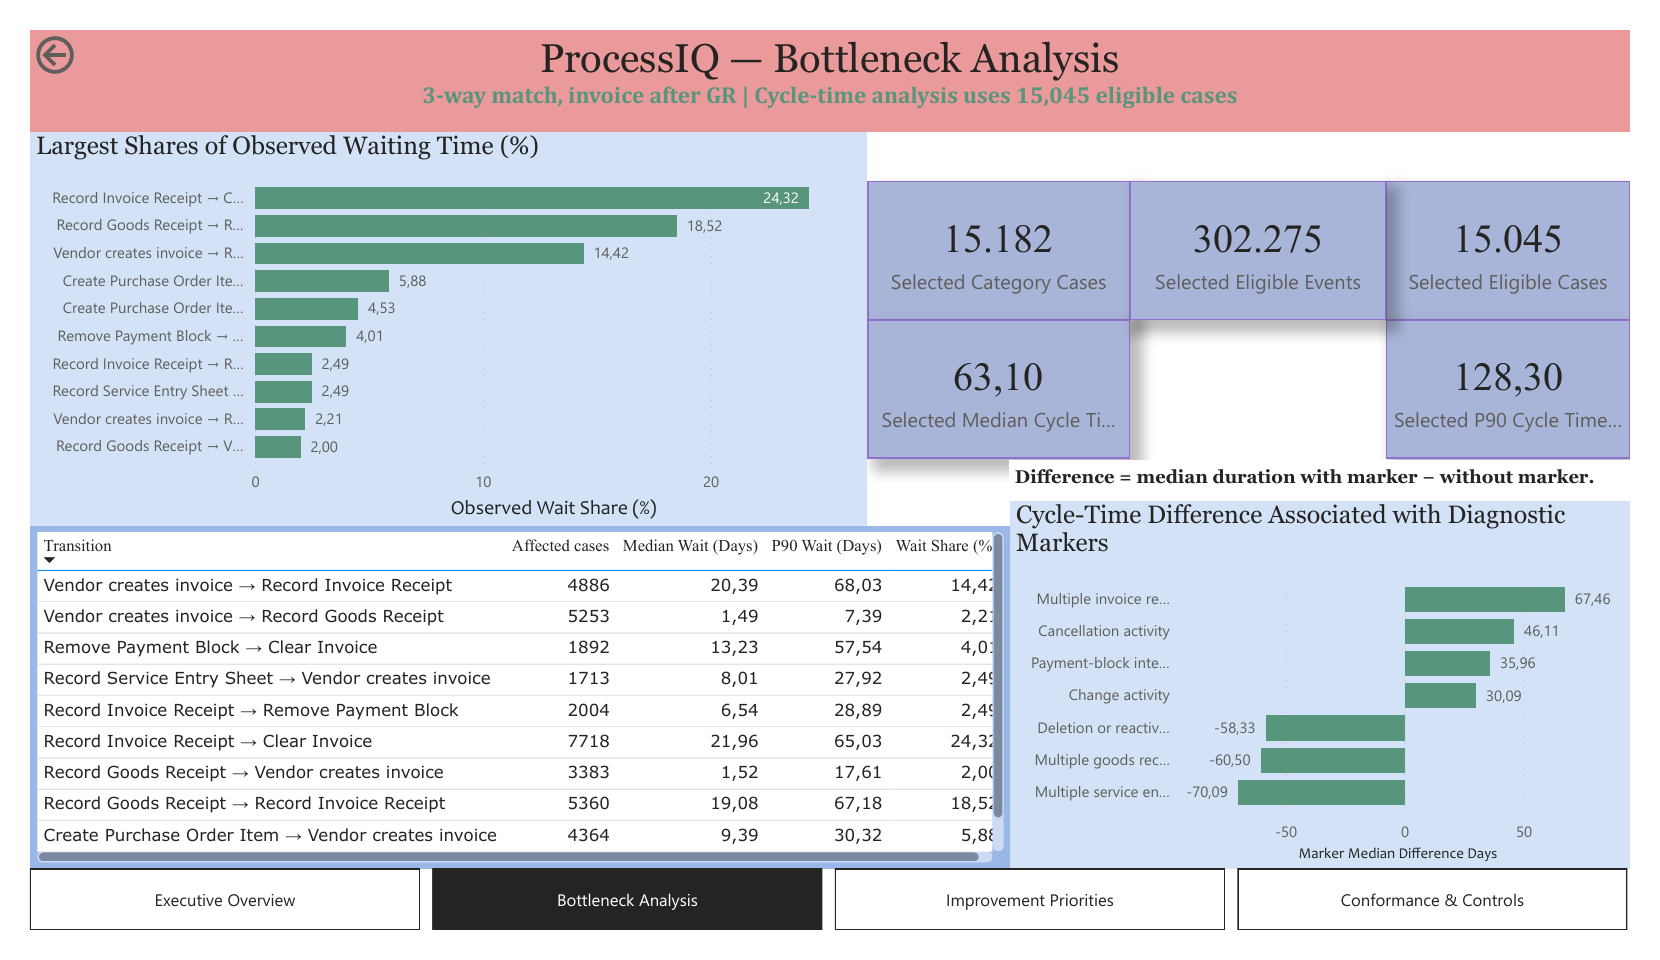

What the dashboard file says about the page in this screenshot:
{"tool":"powerbi","page":{"name":"Bottleneck Analysis","canvas":[1280,720],"ordinal":1},"visuals":[{"type":"textbox","box":[0,0,1280.3,82.3],"z":0},{"type":"card","fields":{"Values":["dashboard_cases.Selected Category Cases"]},"box":[669.6,120.8,209.9,111.1],"z":1000},{"type":"card","fields":{"Values":["dashboard_cases.Selected Eligible Cases"]},"box":[1085.4,120.8,194.9,111.1],"z":2000},{"type":"card","fields":{"Values":["dashboard_cases.Selected Median Cycle Time Days"]},"box":[669.6,231.9,209.9,111.1],"z":3000},{"type":"card","fields":{"Values":["dashboard_cases.Selected P90 Cycle Time Days"]},"box":[1085.4,231.9,194.9,111.1],"z":4000},{"type":"clusteredBarChart","title":"Largest Shares of Observed Waiting Time (%)","fields":{"Category":["transition_bottlenecks.Transition Label"],"Y":["Sum(transition_bottlenecks.share_of_observed_wait)"]},"box":[0,82.3,669.6,314.2],"z":5000},{"type":"clusteredBarChart","title":"Cycle-Time Difference Associated with Diagnostic Markers","fields":{"Category":["marker_duration_comparison.marker"],"Y":["marker_duration_comparison.Marker Median Difference Days"]},"box":[783.5,377.4,496.7,293.7],"z":6000},{"type":"tableEx","fields":{"Values":["transition_bottlenecks.Transition Label","Sum(transition_bottlenecks.affected_cases)","Sum(transition_bottlenecks.Median Wait Days)","Sum(transition_bottlenecks.P90 Wait Days)","Sum(transition_bottlenecks.share_of_observed_wait)"]},"box":[0,396.6,783.5,274.4],"z":7000},{"type":"actionButton","box":[0,0,100,40],"z":8000},{"type":"card","fields":{"Values":["dashboard_cases.Selected Eligible Events"]},"box":[879.6,120.8,205.8,111.1],"z":9000},{"type":"textbox","box":[782.9,344.3,497.1,32.9],"z":10000},{"type":"pageNavigator","box":[0,671,1280.3,49.4],"z":11000}]}

Visuals, with their boxes in screenshot pixels (x1, y1, x2, y2), scaled from the page's 1280x720 canvas onto the 1660x960 screenshot:
textbox: <box>0,0,1659,110</box>
card - dashboard_cases.Selected Category Cases: <box>868,161,1141,309</box>
card - dashboard_cases.Selected Eligible Cases: <box>1408,161,1659,309</box>
card - dashboard_cases.Selected Median Cycle Time Days: <box>868,309,1141,457</box>
card - dashboard_cases.Selected P90 Cycle Time Days: <box>1408,309,1659,457</box>
"Largest Shares of Observed Waiting Time (%)" clusteredBarChart: <box>0,110,868,529</box>
"Cycle-Time Difference Associated with Diagnostic Markers" clusteredBarChart: <box>1016,503,1659,895</box>
tableEx - transition_bottlenecks.Transition Label x Sum(transition_bottlenecks.affected_cases): <box>0,529,1016,895</box>
actionButton: <box>0,0,130,53</box>
card - dashboard_cases.Selected Eligible Events: <box>1141,161,1408,309</box>
textbox: <box>1015,459,1659,503</box>
pageNavigator: <box>0,895,1659,959</box>
